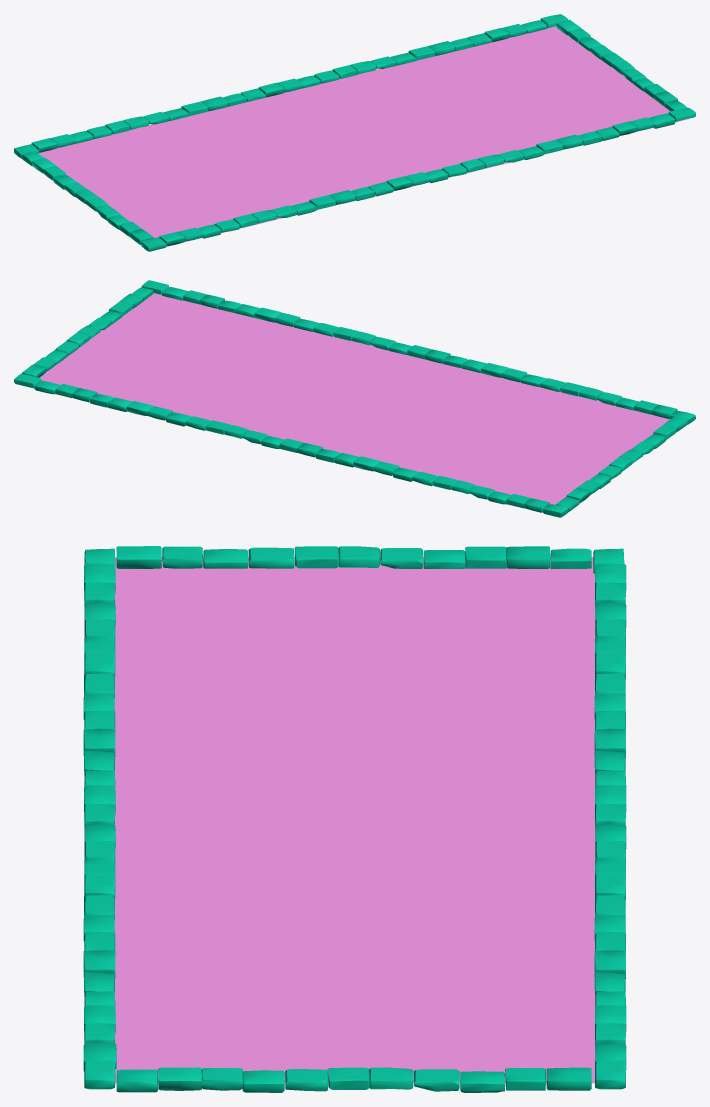
The model's file is basic_ground01.fbx.
3 views of the same model, one above another, from view 1: azimuth 30°, elevation 25°; view 2: azimuth 150°, elevation 25°; view 3: azimuth 270°, elevation 25° (orthographic). The views are drawn at different scales.
Parts seen in each view (by area): view 1: basic_ground01; view 2: basic_ground01; view 3: basic_ground01.
Part boxes in pixels (x1,y1,x2,y2): basic_ground01: [14, 14, 695, 251]; basic_ground01: [14, 280, 695, 517]; basic_ground01: [83, 546, 626, 1092].
Bounding box in the file's own units: 26.04 × 0.316 × 11.17.
